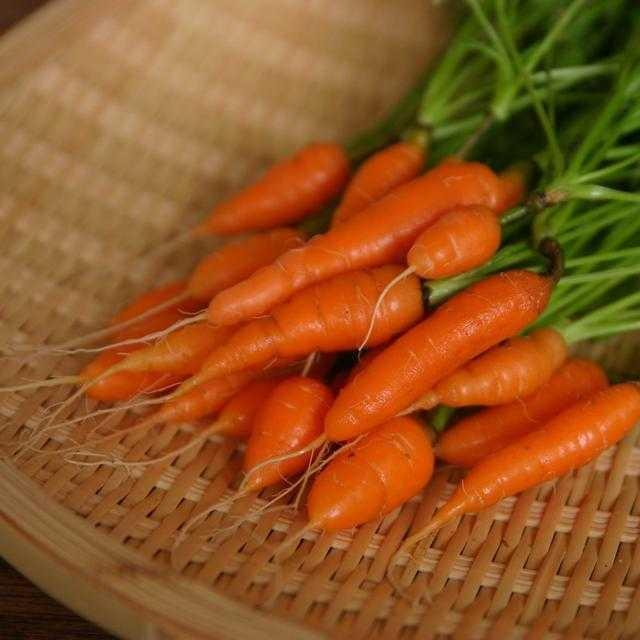carrots: (175, 159, 487, 404), (433, 379, 634, 541)
